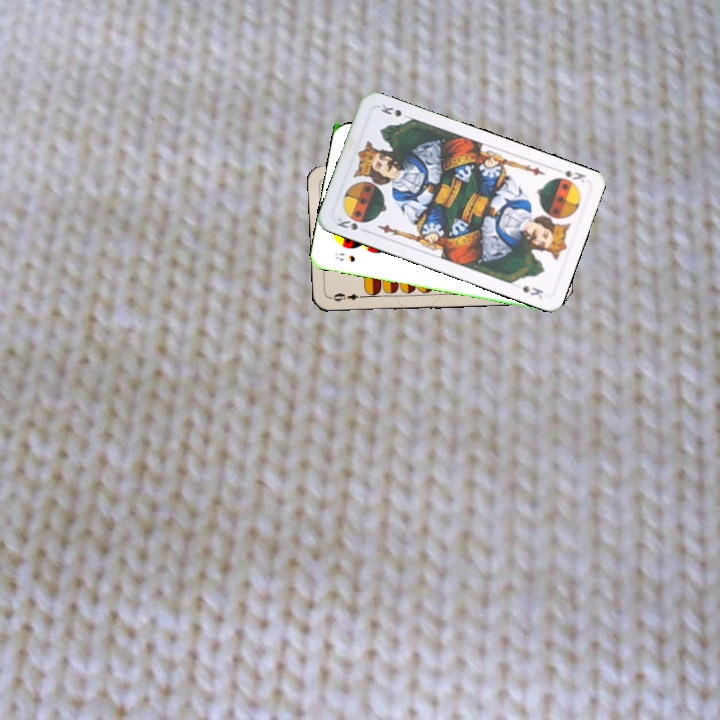E9: (327, 289, 368, 303)
S8: (331, 249, 358, 264)
SK: (332, 213, 369, 233), (561, 166, 588, 185)
